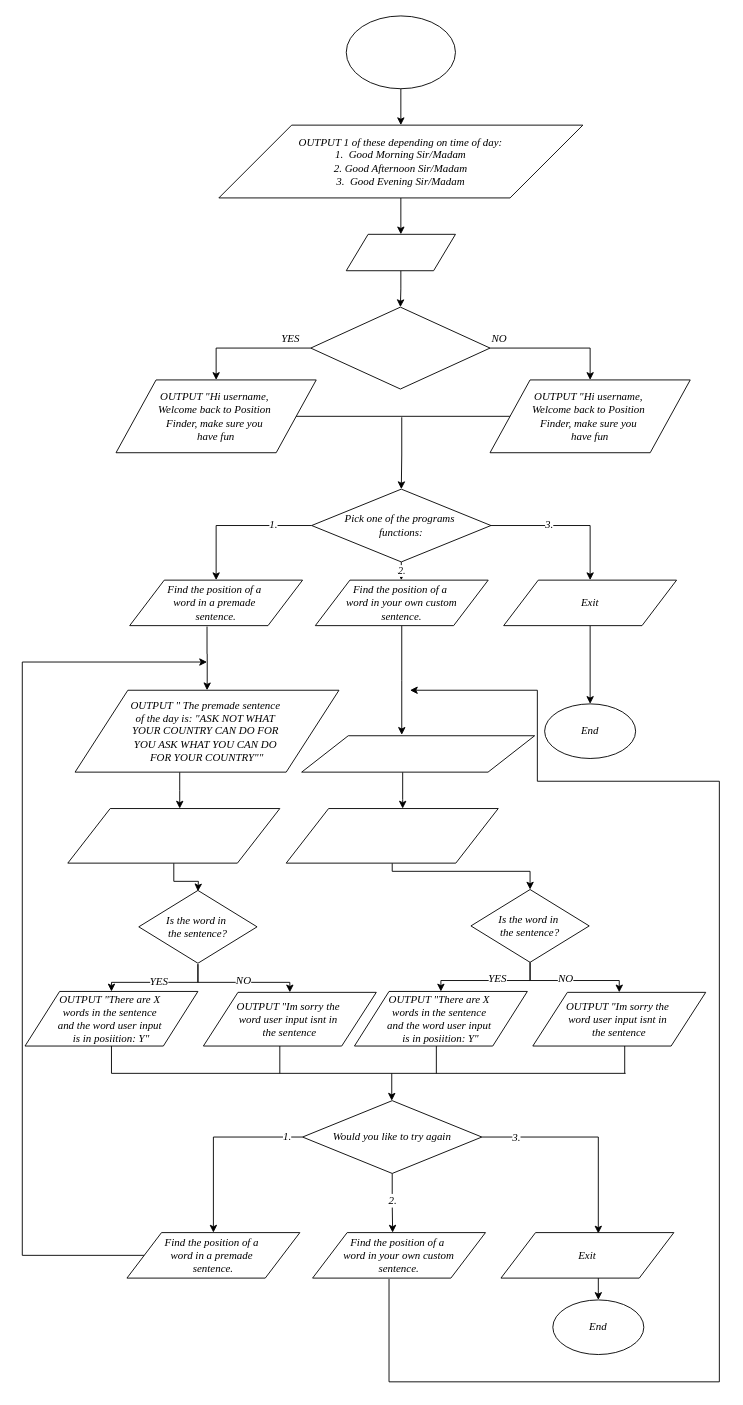
Some shapes in this 743 by 1405 pixel diagram are drawn without their labels. Each missing label, with the centre of its shape:
Have you been here before?: (400,347)
INPUT Name: (400,252)
INPUT what word would you like to find the position of in the sentence:: (173,835)
INPUT what word would you like to find the position of in your sentence:: (391,835)
OUTPUT "What is your custom sentence?": (418,753)
START: (400,52)
